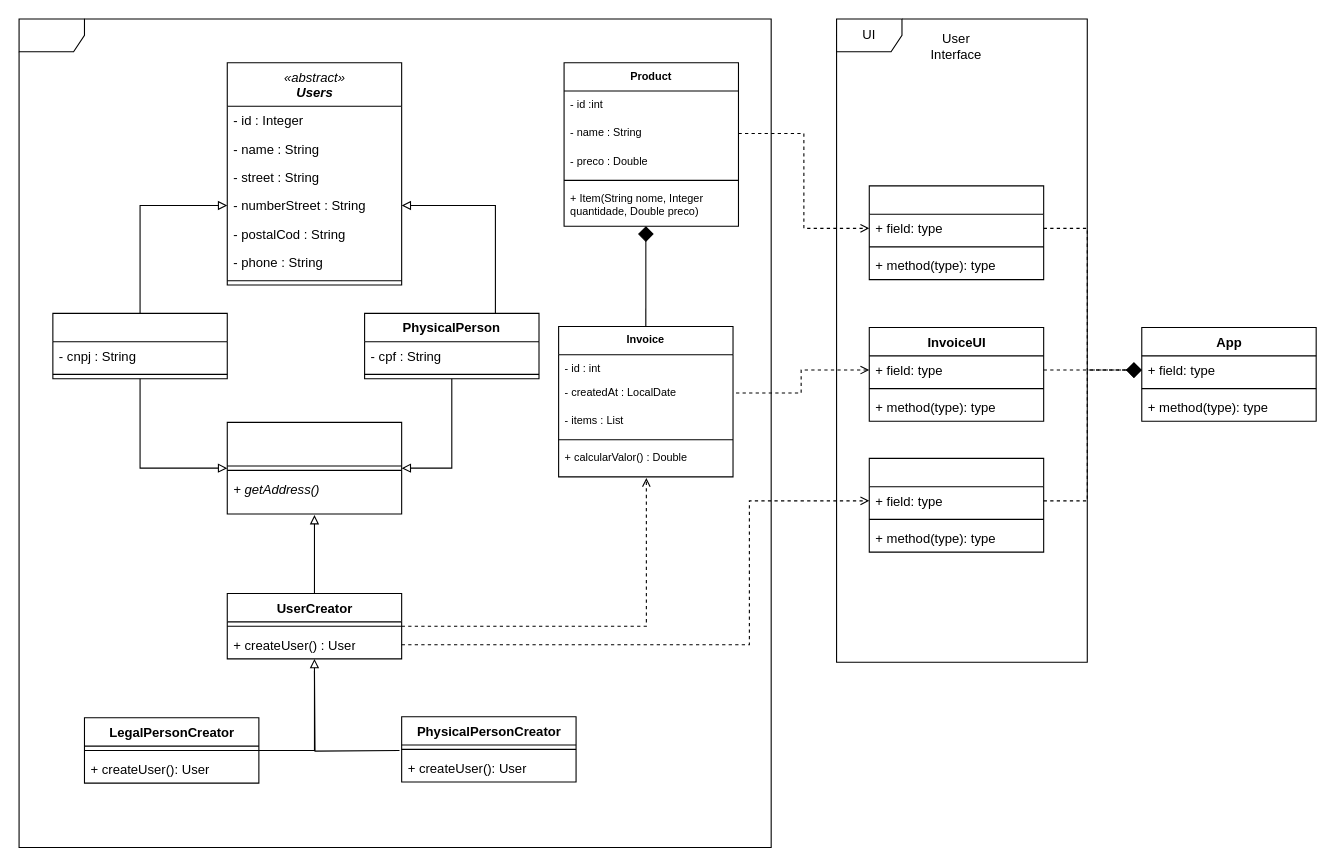
Image size: 1335x867. Some labels were removed from this diagram. Each missing label, with the box of its shape:
LegalPerson: (52, 312, 227, 379)
Model: (18, 18, 771, 847)
ProductUI: (868, 185, 1044, 280)
UserUI: (868, 457, 1044, 552)
«interface» User: (226, 421, 402, 514)
